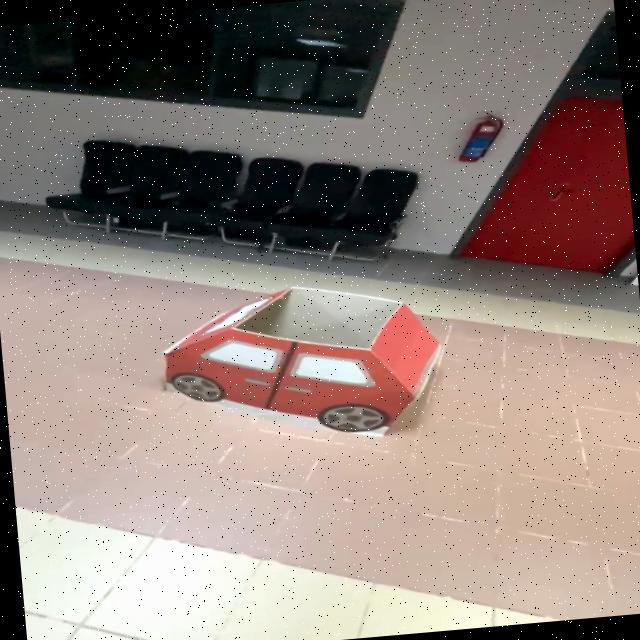red_car: (117, 261, 499, 471)
